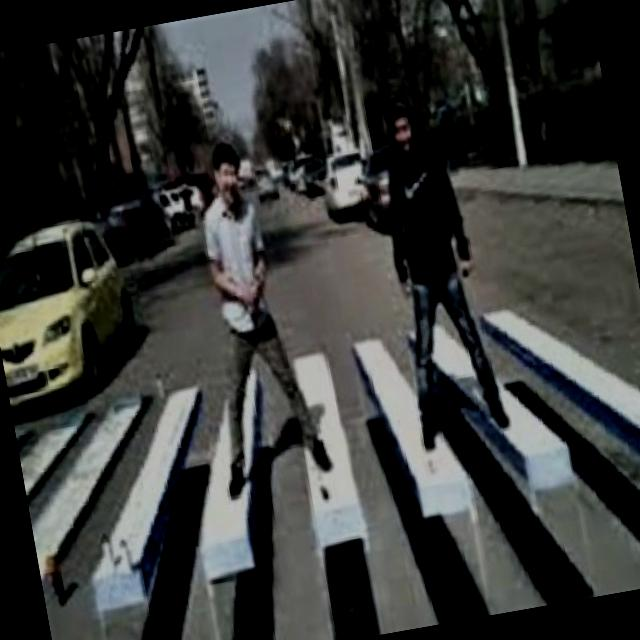Person: (351, 82, 520, 454), (170, 128, 338, 498)
